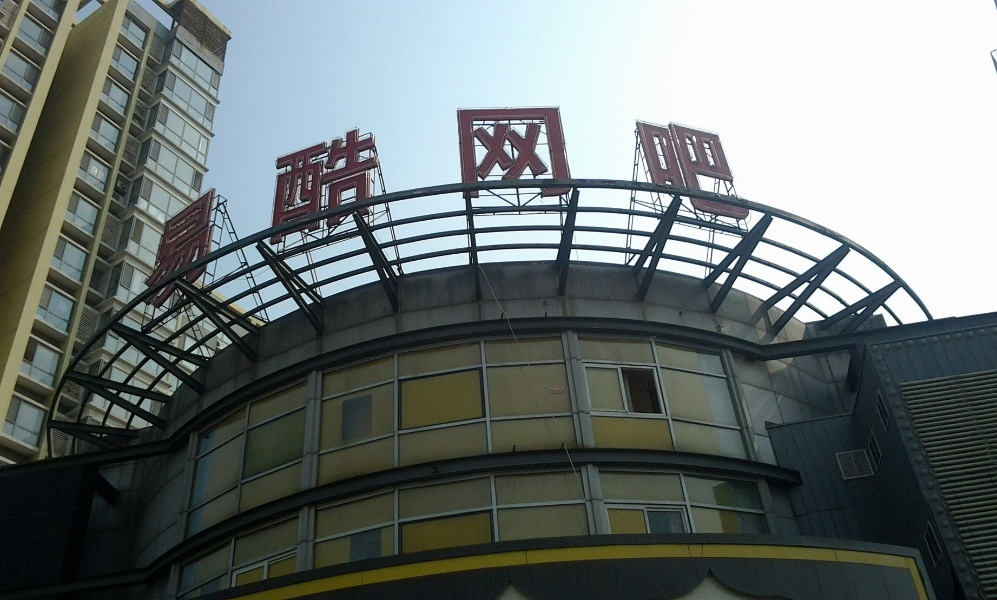text: (177, 70, 192, 317), (193, 70, 208, 317), (209, 70, 224, 317), (225, 70, 240, 317), (241, 70, 256, 317), (257, 70, 272, 317), (273, 70, 288, 317), (289, 70, 304, 317), (305, 70, 320, 317), (321, 70, 336, 317), (337, 70, 352, 317), (353, 70, 368, 317), (369, 70, 384, 317), (385, 70, 400, 317), (401, 70, 416, 317), (417, 70, 432, 317), (433, 70, 448, 317), (449, 70, 464, 317), (465, 70, 480, 317), (481, 70, 496, 317), (497, 70, 512, 317), (513, 70, 528, 317), (529, 70, 544, 317), (545, 70, 560, 317), (561, 70, 576, 317), (577, 70, 592, 317), (593, 70, 608, 317), (609, 70, 624, 317), (625, 70, 640, 317), (641, 70, 656, 317), (657, 70, 672, 317), (673, 70, 688, 317), (689, 70, 704, 317), (705, 70, 720, 317), (721, 70, 736, 317), (737, 70, 752, 317), (165, 70, 176, 317), (753, 70, 756, 317), (551, 388, 560, 391), (561, 388, 564, 391)
